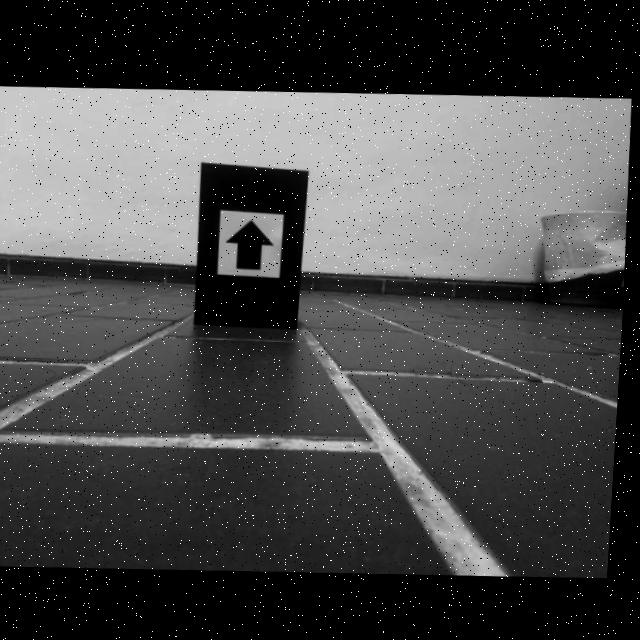UP: (227, 217, 279, 269)
